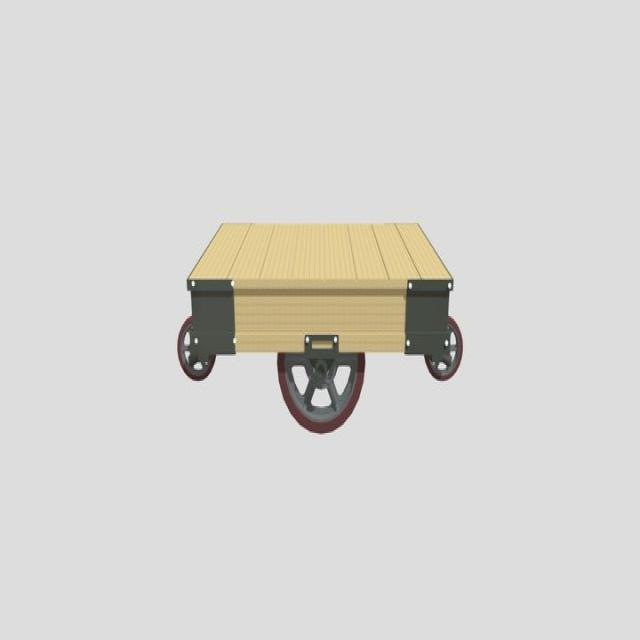table: (178, 227, 464, 432)
